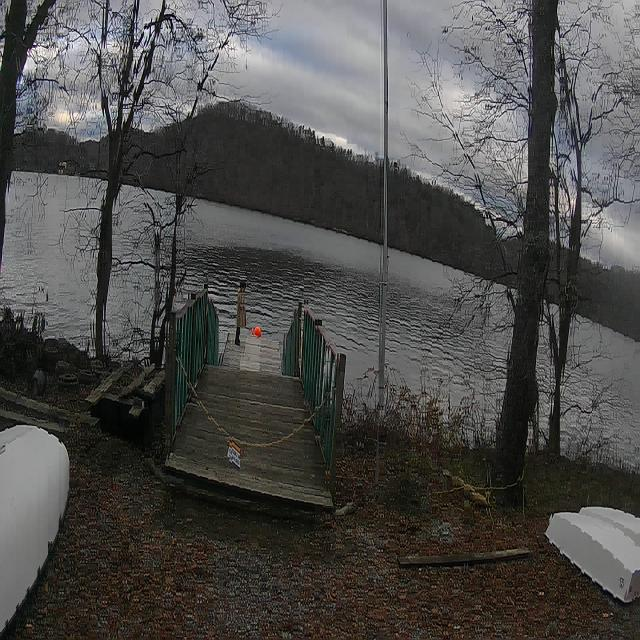Buoy: (247, 319, 266, 345)
